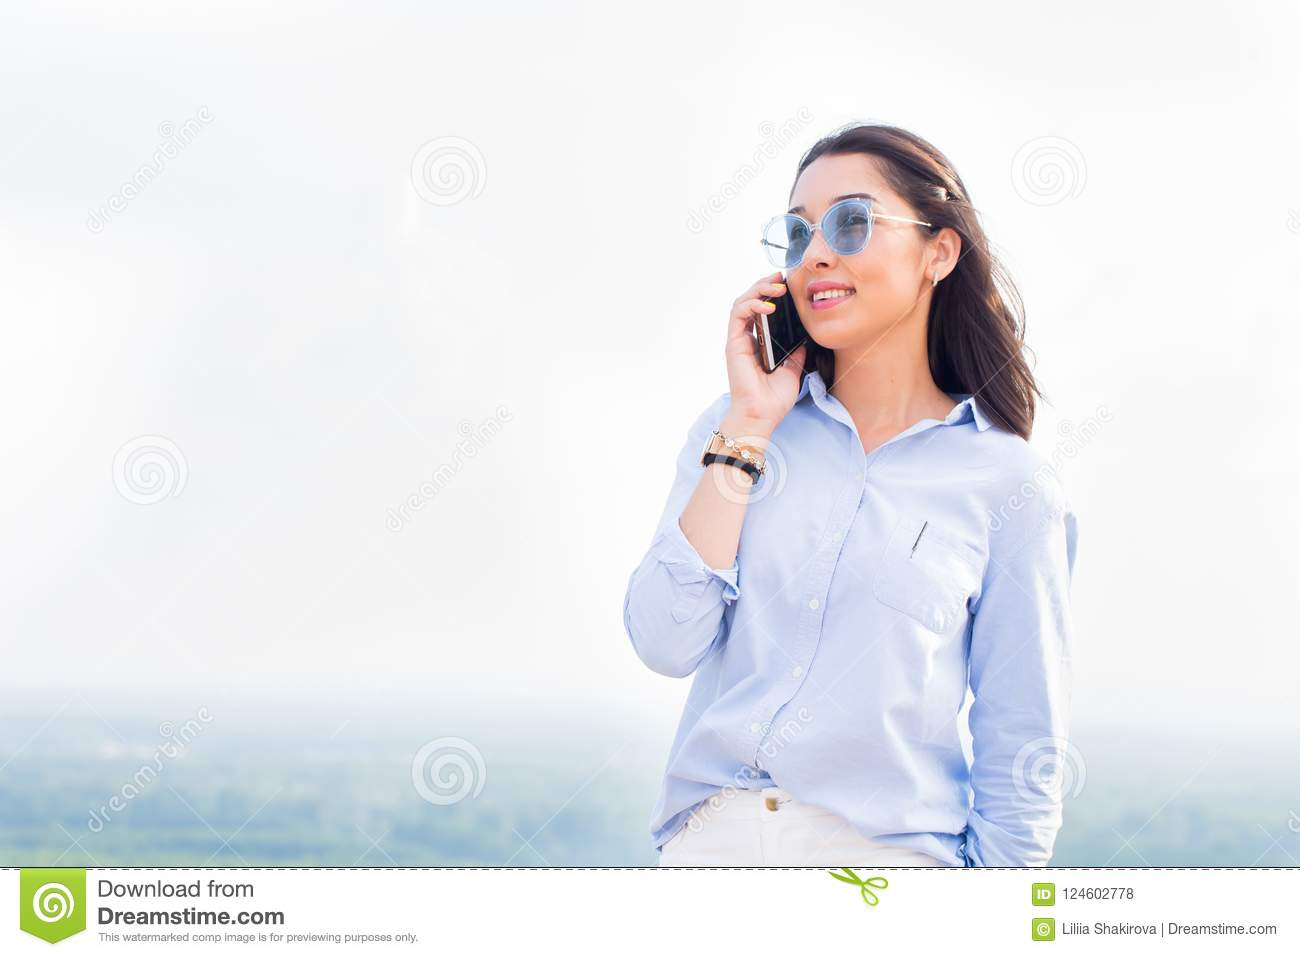phone: (754, 275, 813, 377)
talk: (725, 193, 885, 416)
